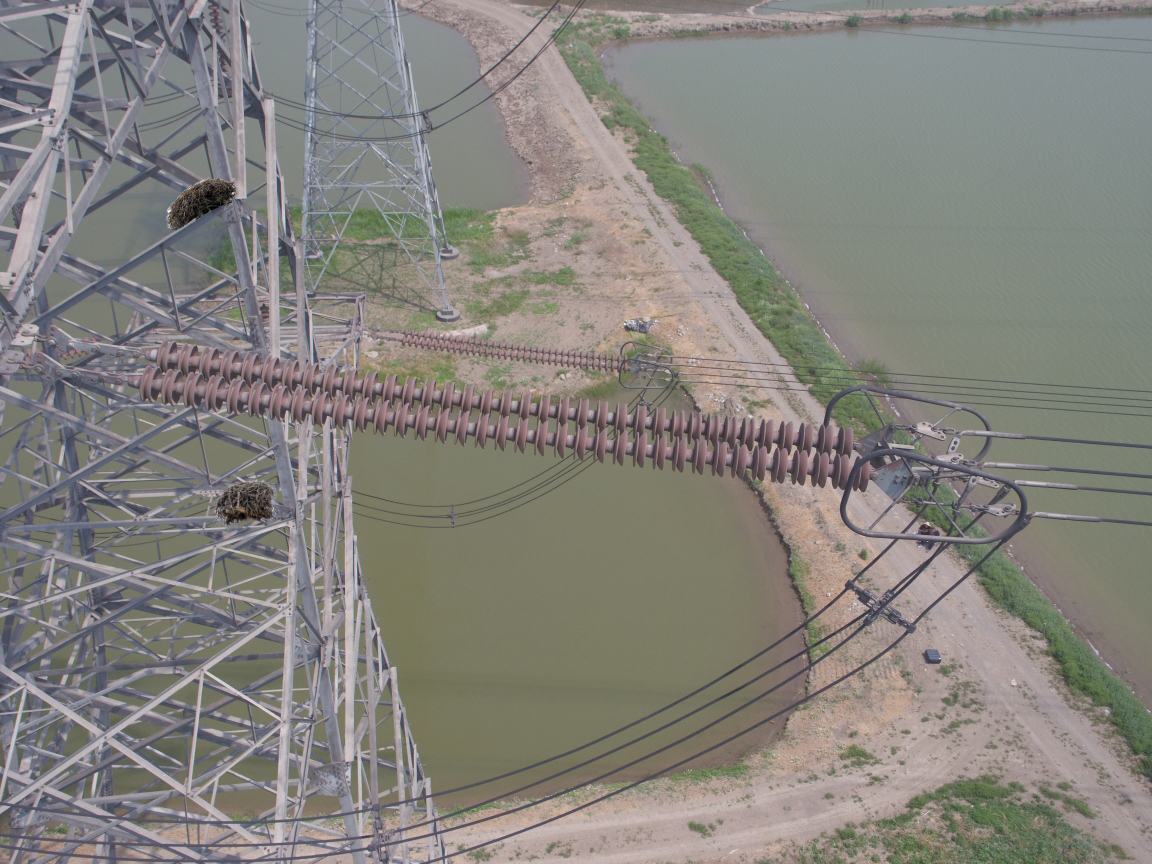nest: (161, 165, 233, 240), (210, 481, 279, 523)
